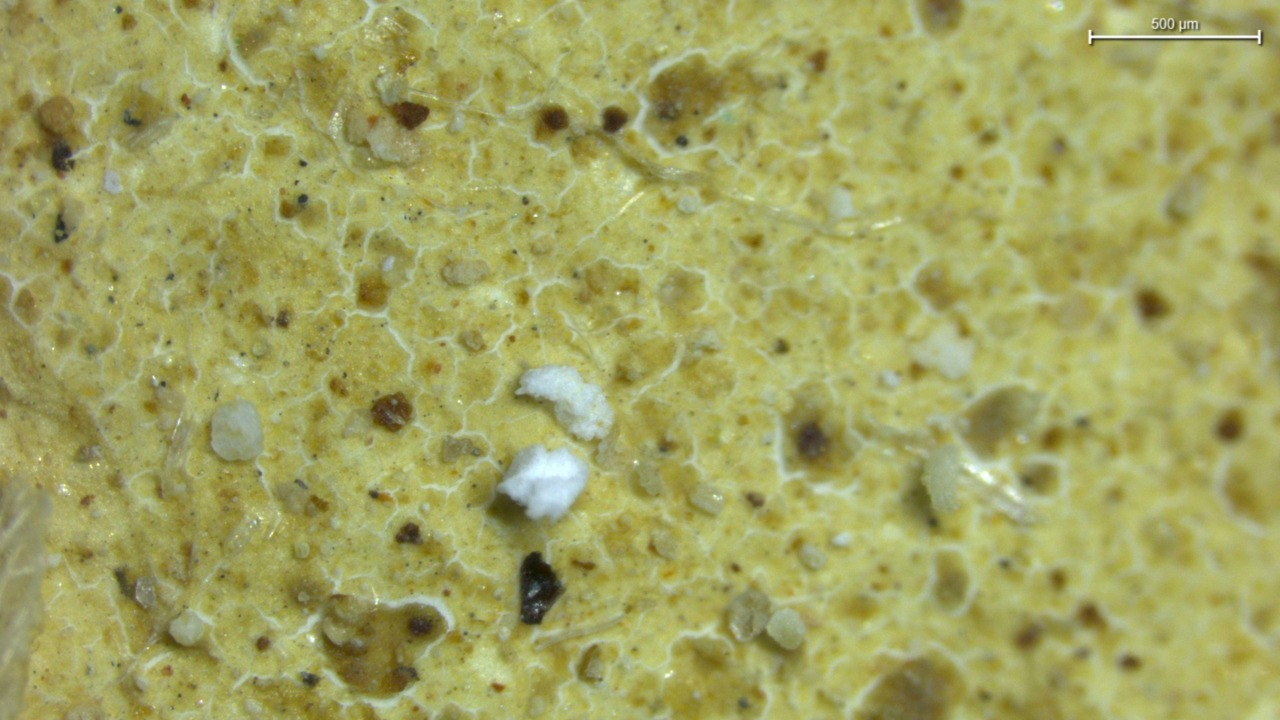microplastic_fragment: (516, 365, 613, 440), (497, 445, 589, 521), (210, 400, 262, 460), (765, 608, 806, 650), (168, 609, 206, 646)
